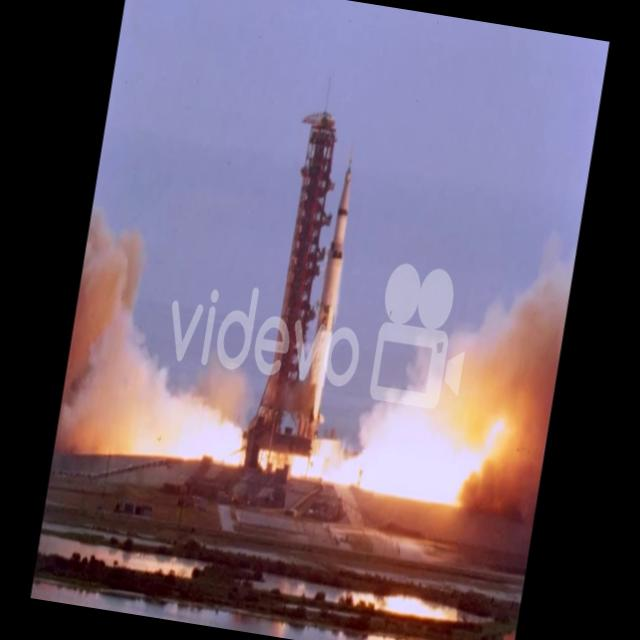rocket: (301, 160, 364, 439)
